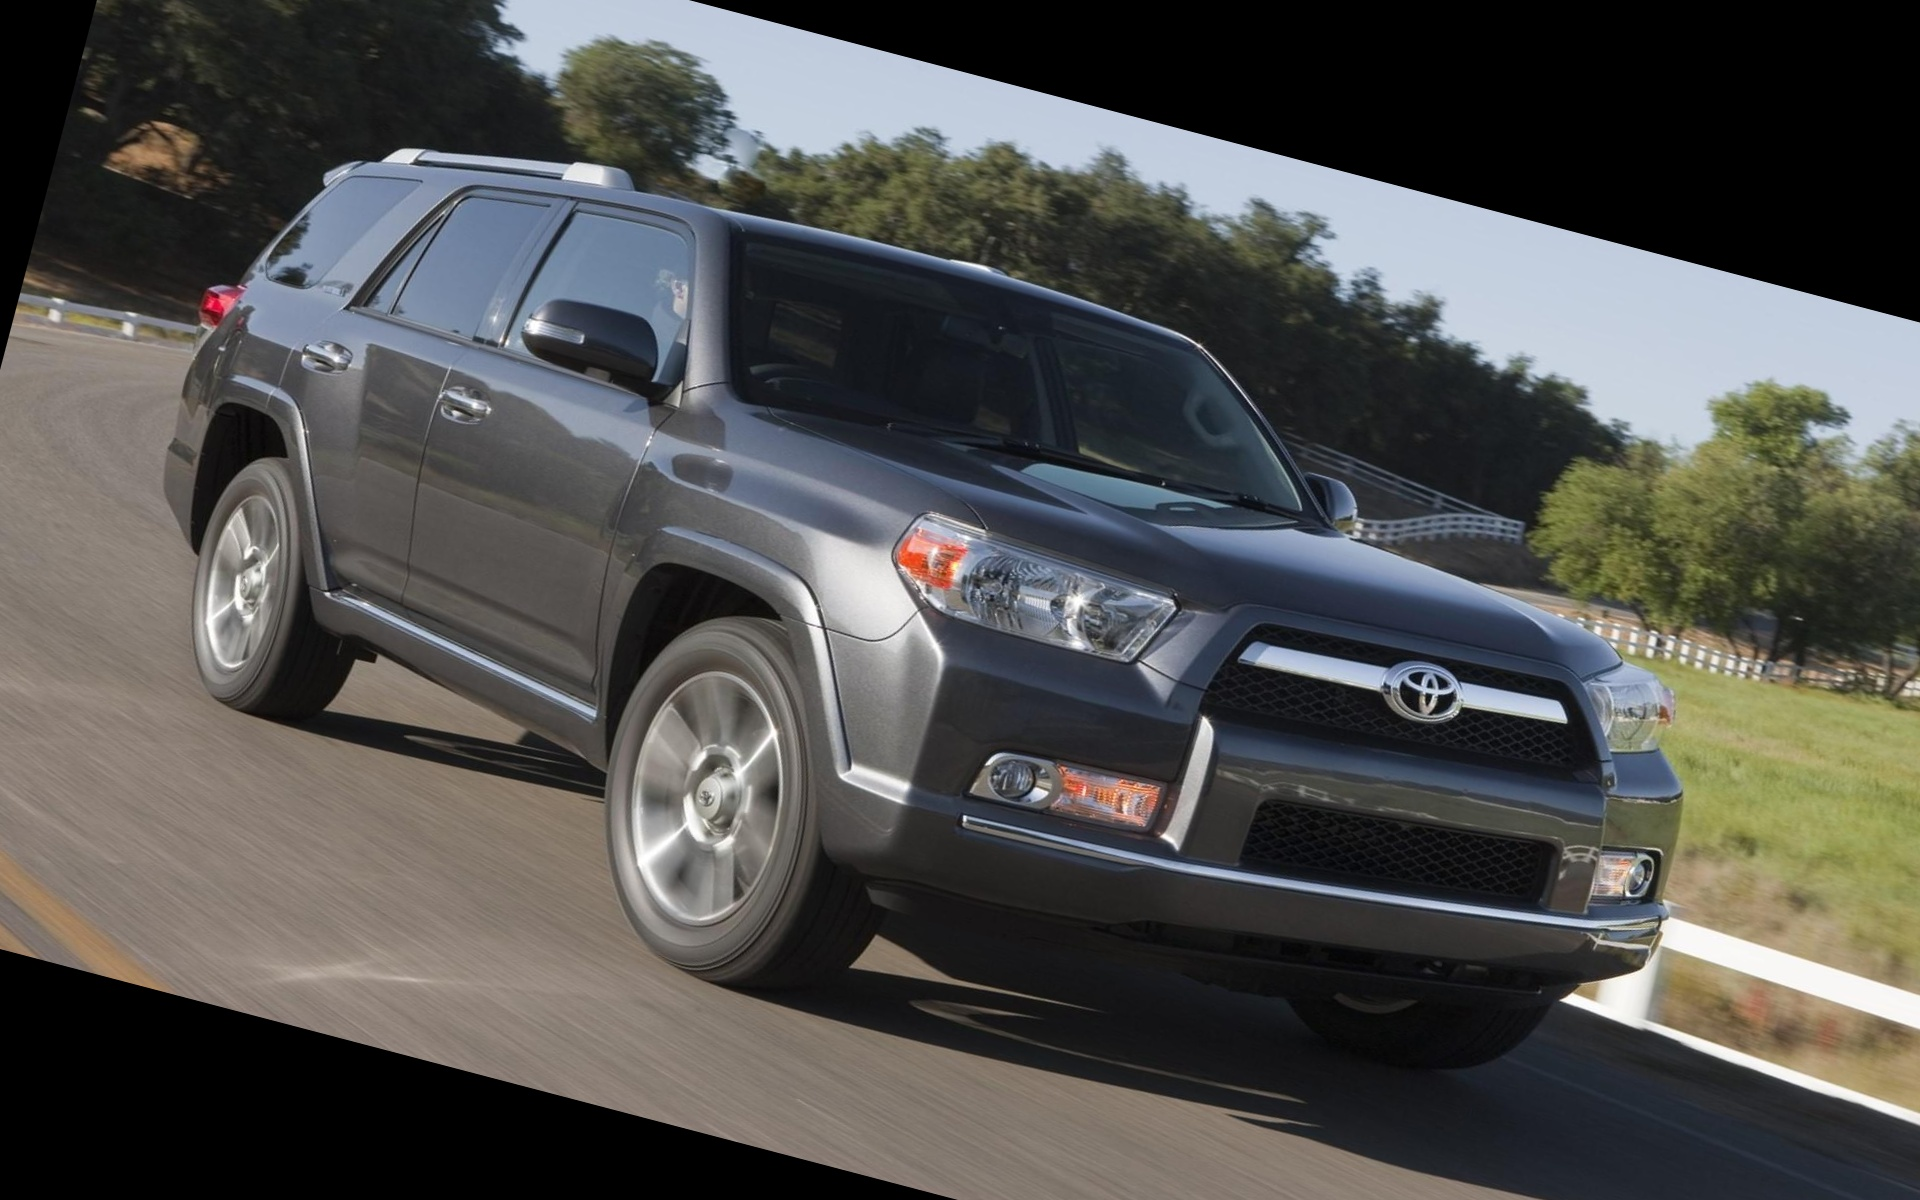car: (0, 11, 1867, 1200)
